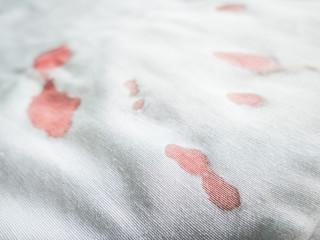gun: (163, 134, 242, 211), (209, 42, 319, 79), (26, 75, 81, 138), (225, 85, 269, 111), (26, 44, 67, 70), (121, 80, 145, 113), (210, 0, 248, 17)
